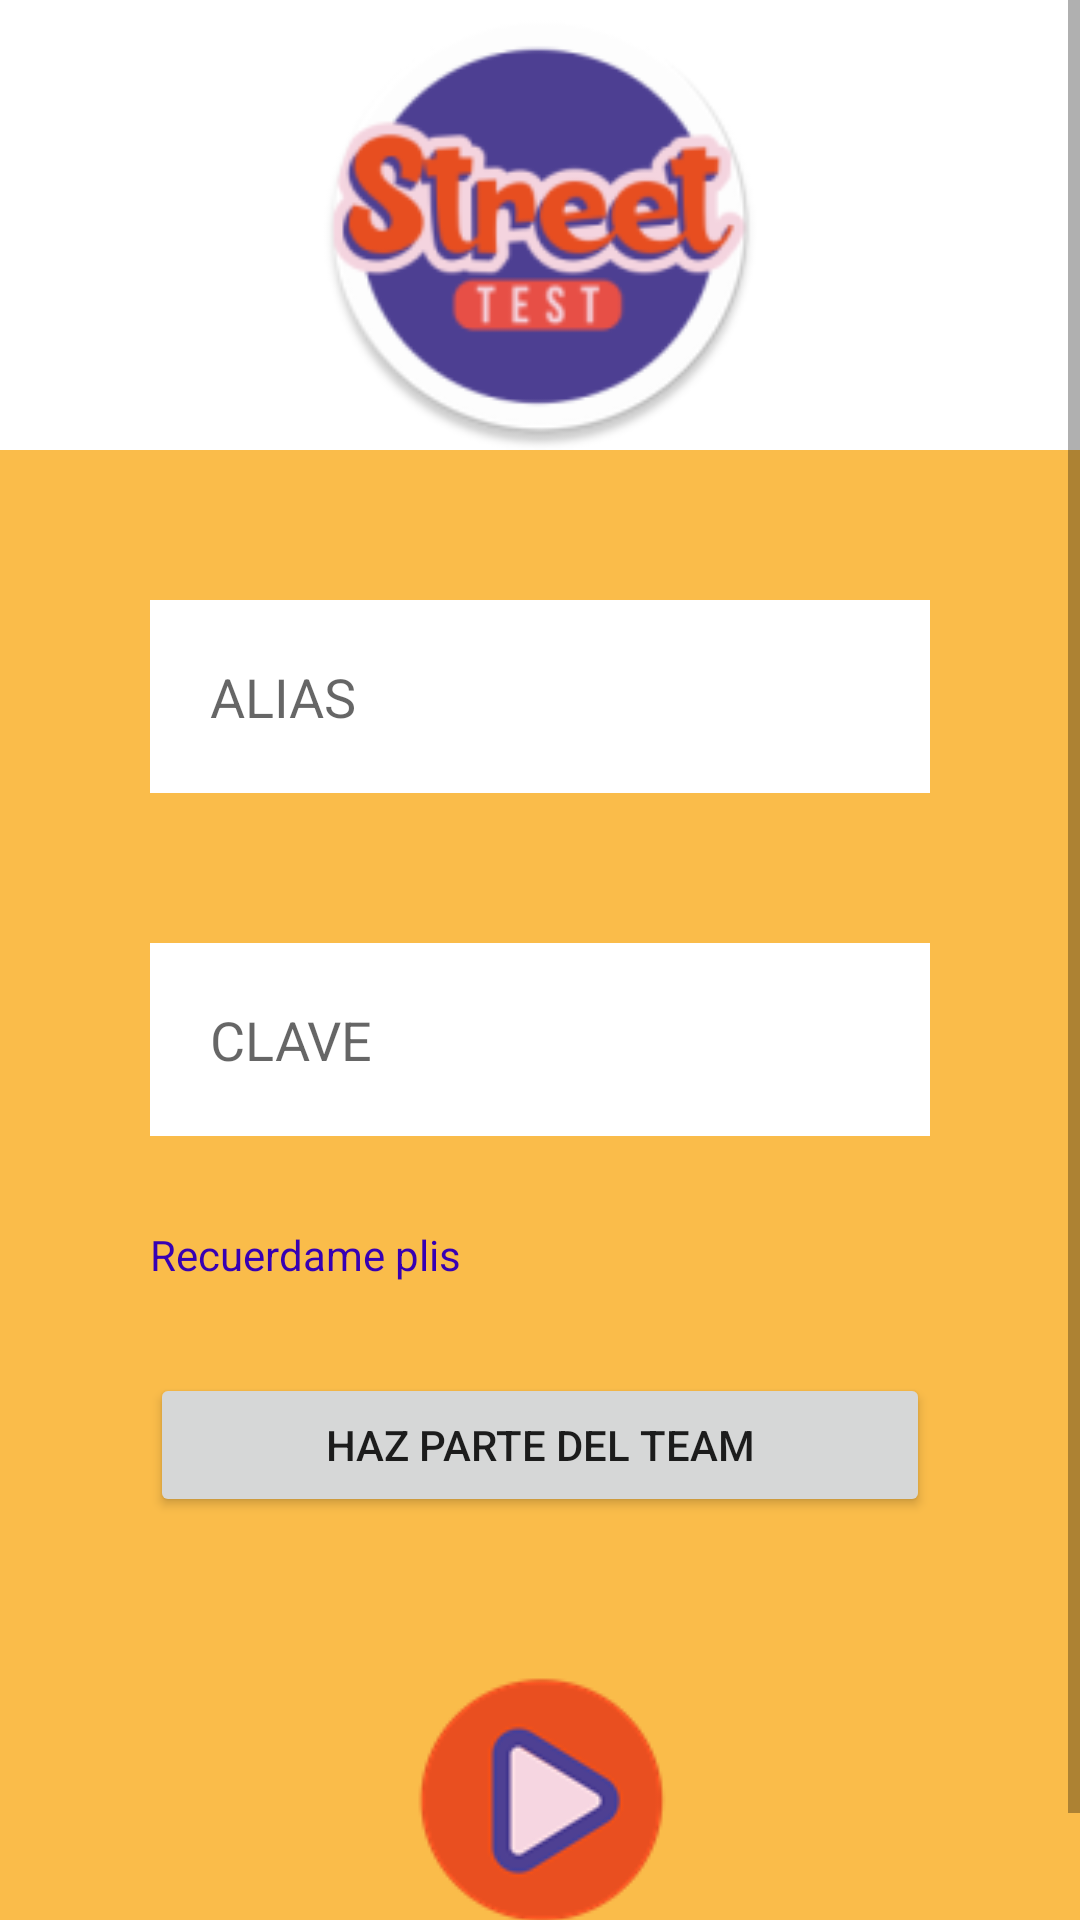

Icons on this 1080 × 1920 Android screen, each with its box as (x1, y1, x2, y2):
play: (420, 1678, 663, 1920)
